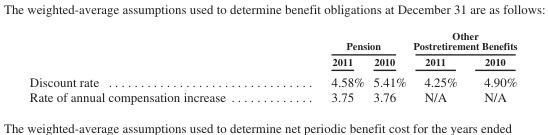table: (28, 29, 516, 103)
table column: (28, 29, 277, 103), (277, 29, 368, 103), (409, 29, 469, 103), (469, 29, 516, 103), (368, 29, 409, 103)
table column header: (28, 29, 516, 70)
table row: (28, 29, 516, 53), (28, 70, 516, 88), (28, 53, 516, 70), (28, 88, 516, 103)
table spanning cell: (277, 29, 409, 53), (409, 29, 516, 53)
